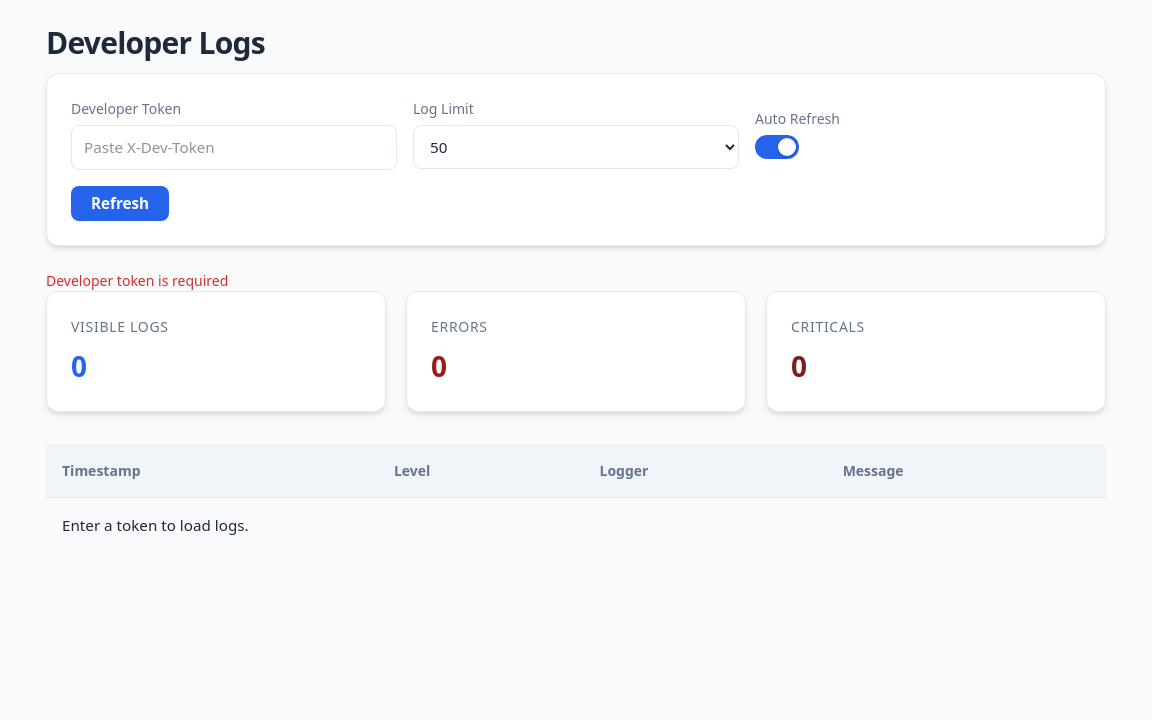
loads dev logs after entering a token and saves it in session storage
The width and height of the screenshot is (1152, 720).
Expected: the text "Enter a token to load logs." is shown, [46,498,1106,553]
Type "secret-token" into the password field labelled "Developer Token" at (234, 147), box [71,125,397,170]
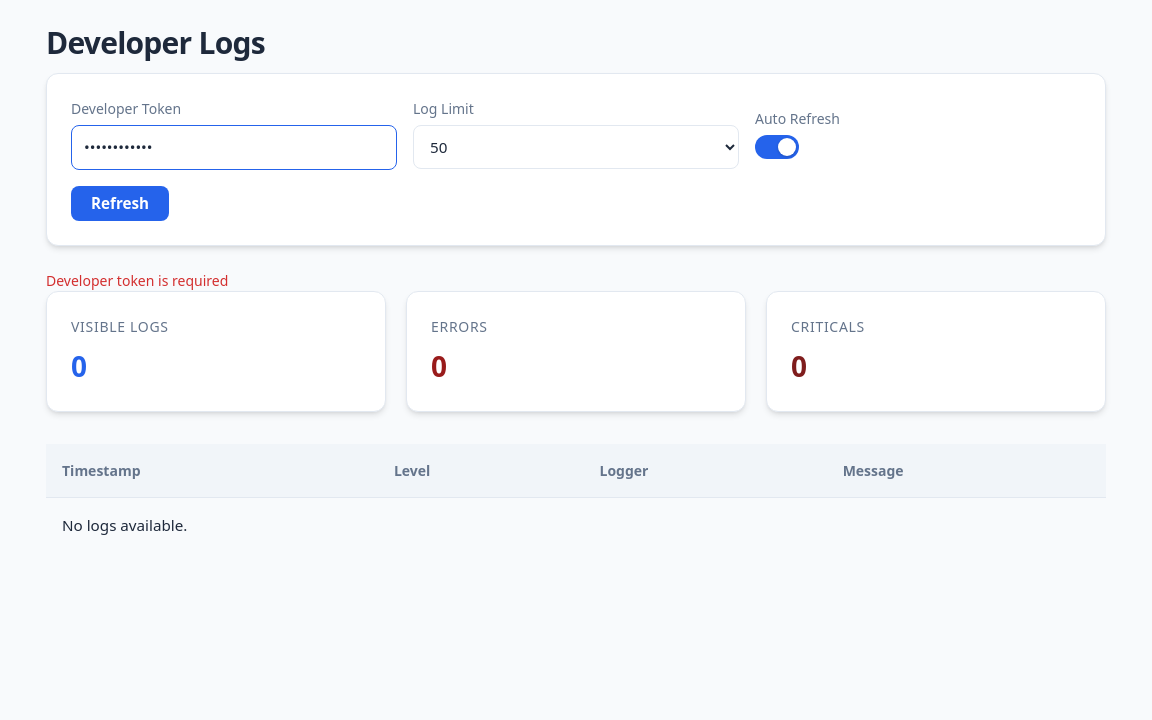
Click the button "Refresh" at (120, 203), box [71,186,169,221]
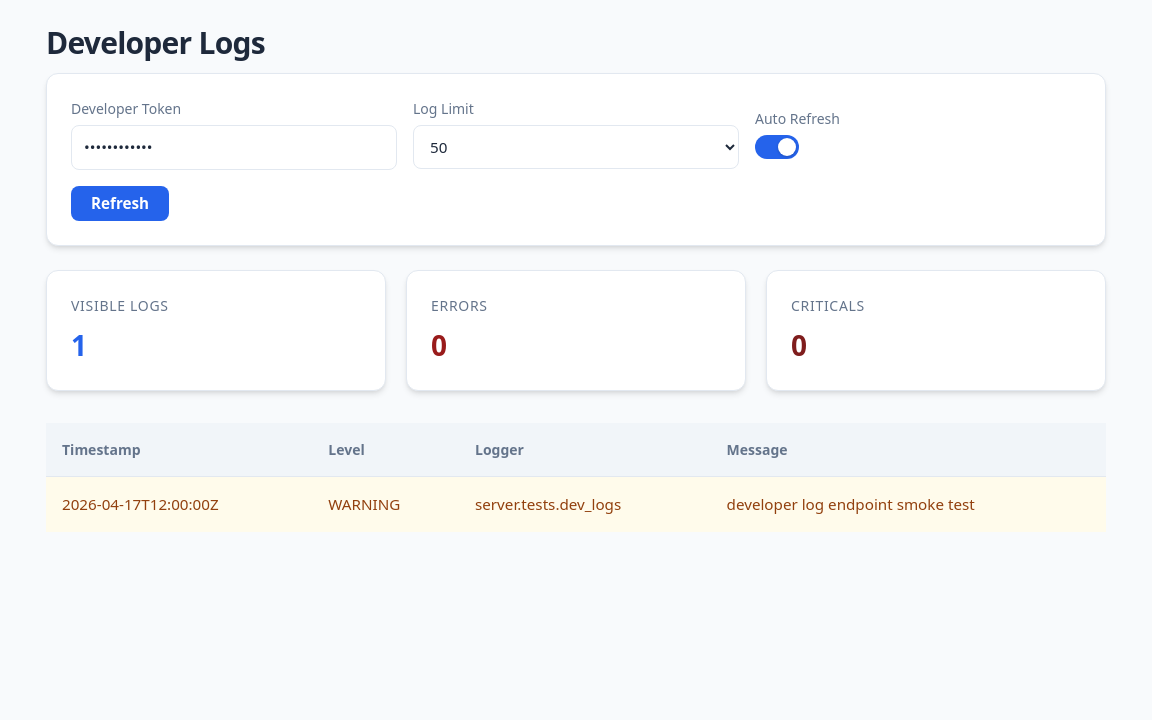
Expected: the text "developer log endpoint smoke test" is shown, [711,476,1106,532]
